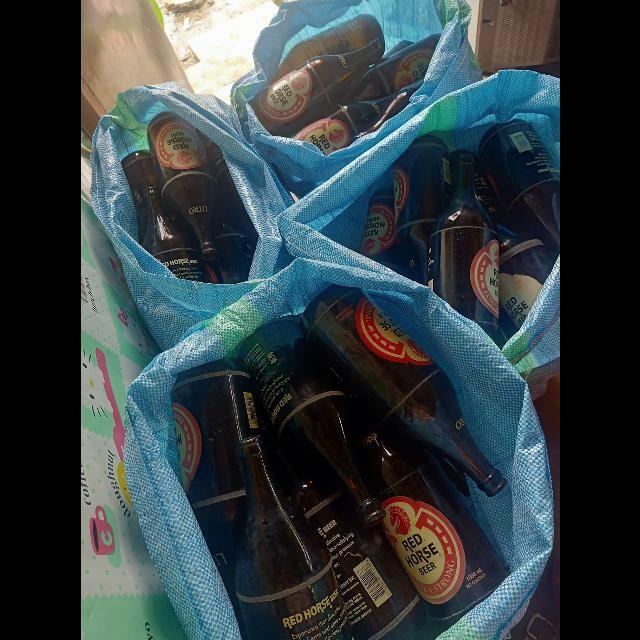glass_bottle: (325, 360, 512, 629), (301, 285, 507, 498), (260, 419, 427, 640), (238, 320, 386, 527), (234, 436, 353, 640), (169, 357, 261, 596), (247, 39, 383, 138), (427, 154, 499, 341), (478, 119, 560, 258), (146, 112, 217, 259), (393, 135, 449, 287), (271, 14, 385, 84), (338, 34, 440, 108), (496, 222, 557, 329), (142, 187, 204, 282), (292, 97, 388, 156), (359, 189, 416, 282), (353, 78, 424, 140), (120, 150, 161, 224)
